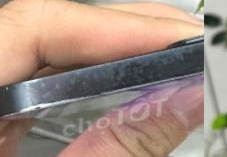scratch: (0, 9, 204, 124)
